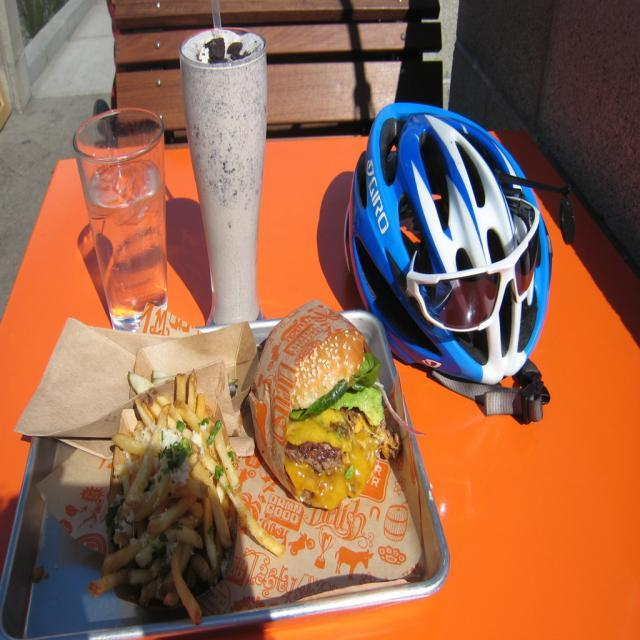Hamburger: (283, 332, 424, 510)
